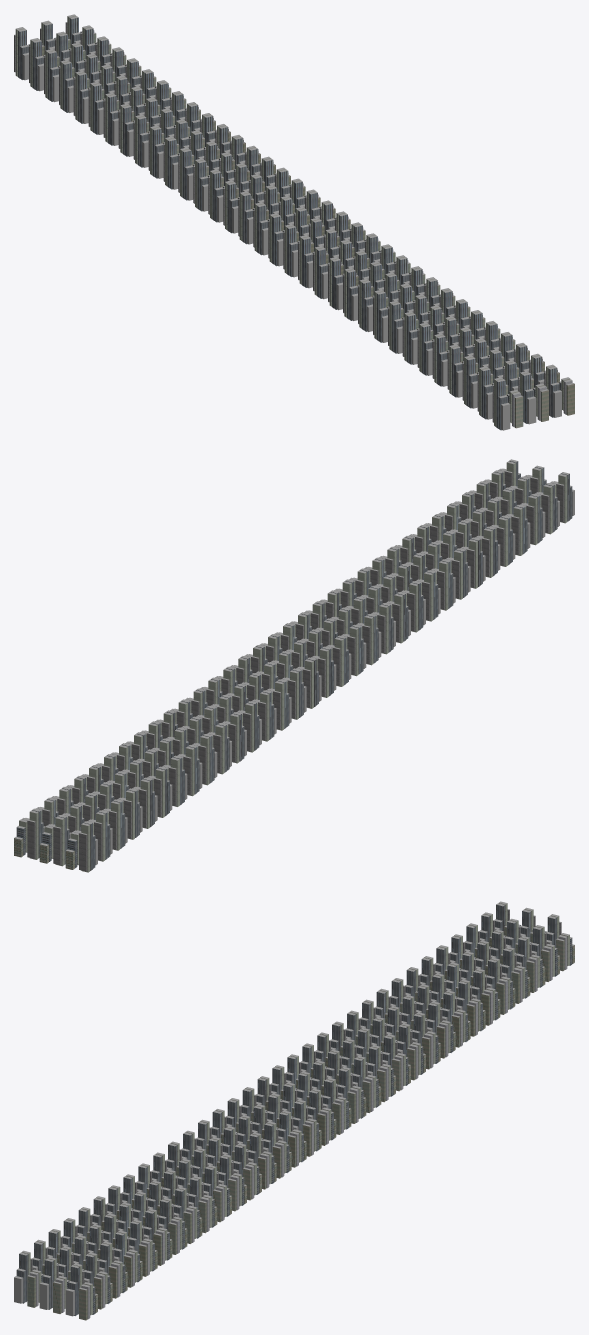
Rendered from map7.obj.
3 renders of one model, top to bottom at view 1: azimuth 30°, elevation 25°; view 2: azimuth 150°, elevation 25°; view 3: azimuth 330°, elevation 25°, orthographic.
Visible parts, largest first — view 1: batiments.083_Cube.1242_Cube.047, batiments.291_Cube.1242_Cube.047, batiments.002_Cube.1242_Cube.047, batiments.283_Cube.1242_Cube.047, batiments.807_Cube.1242_Cube.047, batiments.226_Cube.1242_Cube.047, batiments.578_Cube.1242_Cube.047, batiments.579_Cube.1242_Cube.047, batiments.225_Cube.1242_Cube.047, batiments.201_Cube.1242_Cube.047, batiments.759_Cube.1242_Cube.047, batiments.651_Cube.1242_Cube.047 (+23 smaller); view 2: batiments.141_Cube.1242_Cube.047, batiments.493_Cube.1242_Cube.047, batiments.003_Cube.1242_Cube.047, batiments.286_Cube.1242_Cube.047, batiments.244_Cube.1242_Cube.047, batiments.819_Cube.1242_Cube.047, batiments.579_Cube.1242_Cube.047, batiments.161_Cube.1242_Cube.047, batiments.145_Cube.1242_Cube.047, batiments.650_Cube.1242_Cube.047, batiments.578_Cube.1242_Cube.047, batiments.289_Cube.1242_Cube.047 (+23 smaller); view 3: batiments.002_Cube.1242_Cube.047, batiments.291_Cube.1242_Cube.047, batiments.083_Cube.1242_Cube.047, batiments.440_Cube.1242_Cube.047, batiments.140_Cube.1242_Cube.047, batiments.012_Cube.1242_Cube.047, batiments.084_Cube.1242_Cube.047, batiments.016_Cube.1242_Cube.047, batiments.476_Cube.1242_Cube.047, batiments.344_Cube.1242_Cube.047, batiments.304_Cube.1242_Cube.047, batiments.480_Cube.1242_Cube.047 (+23 smaller).
Part boxes in pixels (x1=…): batiments.083_Cube.1242_Cube.047: x1=492, y1=377, x2=523, y2=430; batiments.291_Cube.1242_Cube.047: x1=518, y1=371, x2=548, y2=424; batiments.002_Cube.1242_Cube.047: x1=544, y1=364, x2=574, y2=417; batiments.283_Cube.1242_Cube.047: x1=402, y1=311, x2=433, y2=364; batiments.807_Cube.1242_Cube.047: x1=417, y1=322, x2=448, y2=375; batiments.226_Cube.1242_Cube.047: x1=103, y1=92, x2=134, y2=145; batiments.578_Cube.1242_Cube.047: x1=88, y1=81, x2=119, y2=134; batiments.579_Cube.1242_Cube.047: x1=118, y1=103, x2=149, y2=156; batiments.225_Cube.1242_Cube.047: x1=73, y1=70, x2=104, y2=123; batiments.201_Cube.1242_Cube.047: x1=432, y1=333, x2=463, y2=386; batiments.759_Cube.1242_Cube.047: x1=238, y1=191, x2=268, y2=244; batiments.651_Cube.1242_Cube.047: x1=477, y1=366, x2=508, y2=419; batiments.141_Cube.1242_Cube.047: x1=65, y1=821, x2=97, y2=872; batiments.493_Cube.1242_Cube.047: x1=39, y1=815, x2=70, y2=866; batiments.003_Cube.1242_Cube.047: x1=14, y1=808, x2=44, y2=859; batiments.286_Cube.1242_Cube.047: x1=340, y1=624, x2=366, y2=676; batiments.244_Cube.1242_Cube.047: x1=519, y1=494, x2=545, y2=545; batiments.819_Cube.1242_Cube.047: x1=356, y1=614, x2=381, y2=665; batiments.579_Cube.1242_Cube.047: x1=177, y1=745, x2=202, y2=796; batiments.161_Cube.1242_Cube.047: x1=192, y1=734, x2=217, y2=785; batiments.145_Cube.1242_Cube.047: x1=311, y1=646, x2=336, y2=697; batiments.650_Cube.1242_Cube.047: x1=504, y1=504, x2=530, y2=555; batiments.578_Cube.1242_Cube.047: x1=147, y1=766, x2=172, y2=817; batiments.289_Cube.1242_Cube.047: x1=102, y1=799, x2=127, y2=850; batiments.002_Cube.1242_Cube.047: x1=65, y1=1263, x2=97, y2=1320; batiments.291_Cube.1242_Cube.047: x1=39, y1=1257, x2=69, y2=1313; batiments.083_Cube.1242_Cube.047: x1=14, y1=1250, x2=43, y2=1307; batiments.440_Cube.1242_Cube.047: x1=262, y1=1121, x2=291, y2=1178; batiments.140_Cube.1242_Cube.047: x1=99, y1=1241, x2=127, y2=1298; batiments.012_Cube.1242_Cube.047: x1=427, y1=1001, x2=455, y2=1058; batiments.084_Cube.1242_Cube.047: x1=516, y1=936, x2=545, y2=992; batiments.016_Cube.1242_Cube.047: x1=188, y1=1176, x2=217, y2=1233; batiments.476_Cube.1242_Cube.047: x1=441, y1=990, x2=470, y2=1047; batiments.344_Cube.1242_Cube.047: x1=352, y1=1056, x2=381, y2=1112; batiments.304_Cube.1242_Cube.047: x1=412, y1=1012, x2=440, y2=1069; batiments.480_Cube.1242_Cube.047: x1=203, y1=1165, x2=231, y2=1222.
Size of the model in its own units: 10 by 6.17 by 117.
20 materials, 10 textured.
